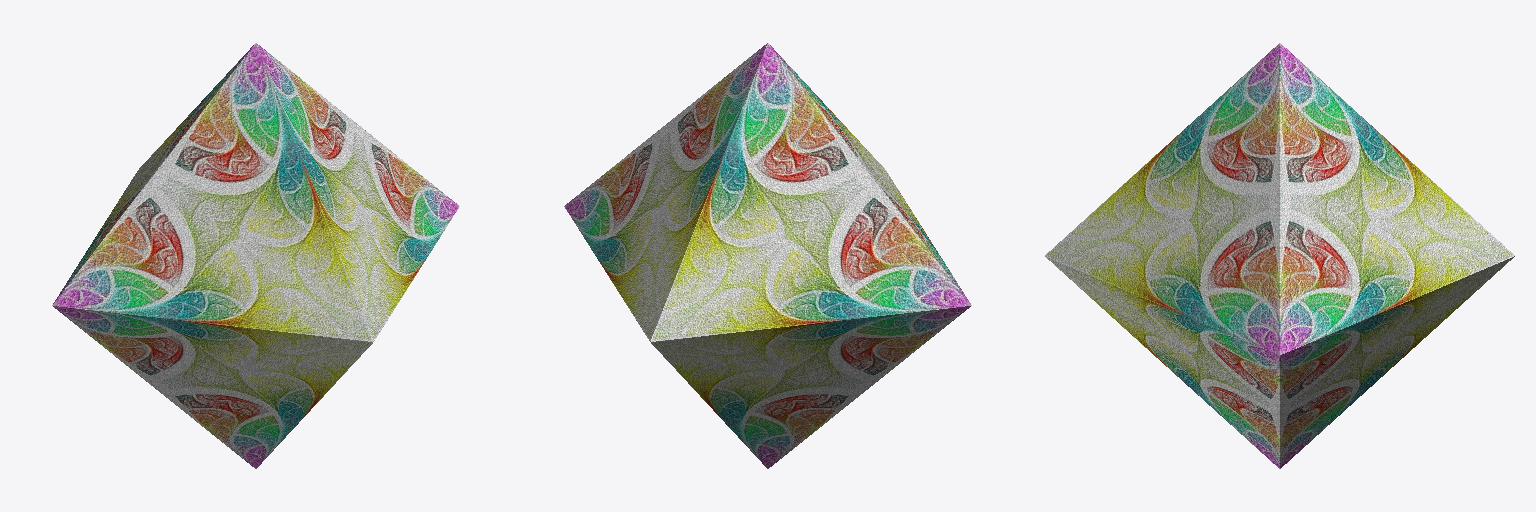
The picture shows the model from 3 angles: view 1: azimuth 30°, elevation 25°; view 2: azimuth 150°, elevation 25°; view 3: azimuth 270°, elevation 25°; orthographic projection.
Size of the model in its own units: 1.41 by 1.41 by 1.41.
1 materials, 1 textured.